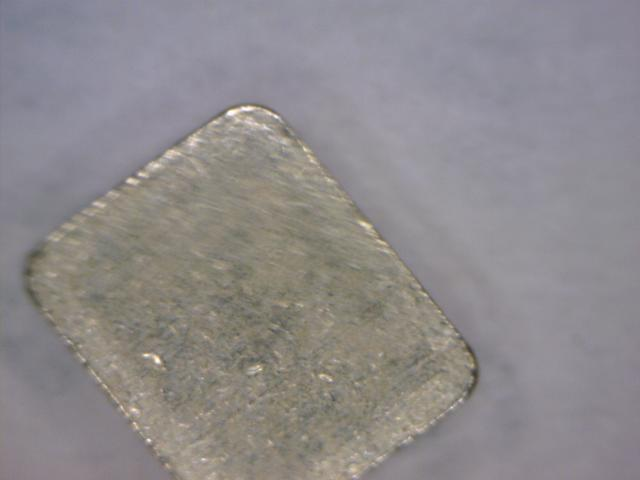ok: (16, 100, 489, 474)
